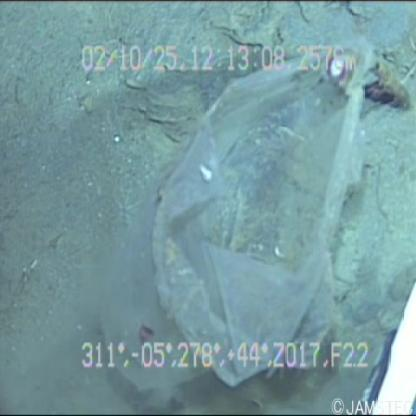Rác: (131, 25, 379, 401)
